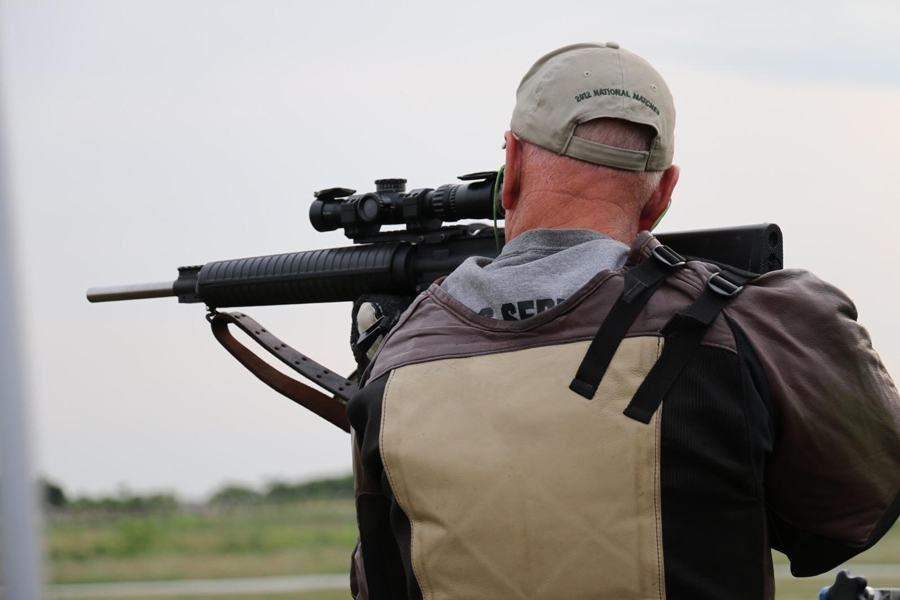Rifle: (87, 166, 787, 303)
